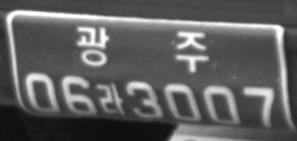0: (24, 71, 61, 113), (203, 85, 241, 125), (165, 82, 202, 122)
3: (126, 80, 164, 119)
6: (62, 73, 97, 115)
7: (243, 85, 275, 128)
광주_D: (76, 25, 209, 73)
라: (97, 81, 125, 115)
